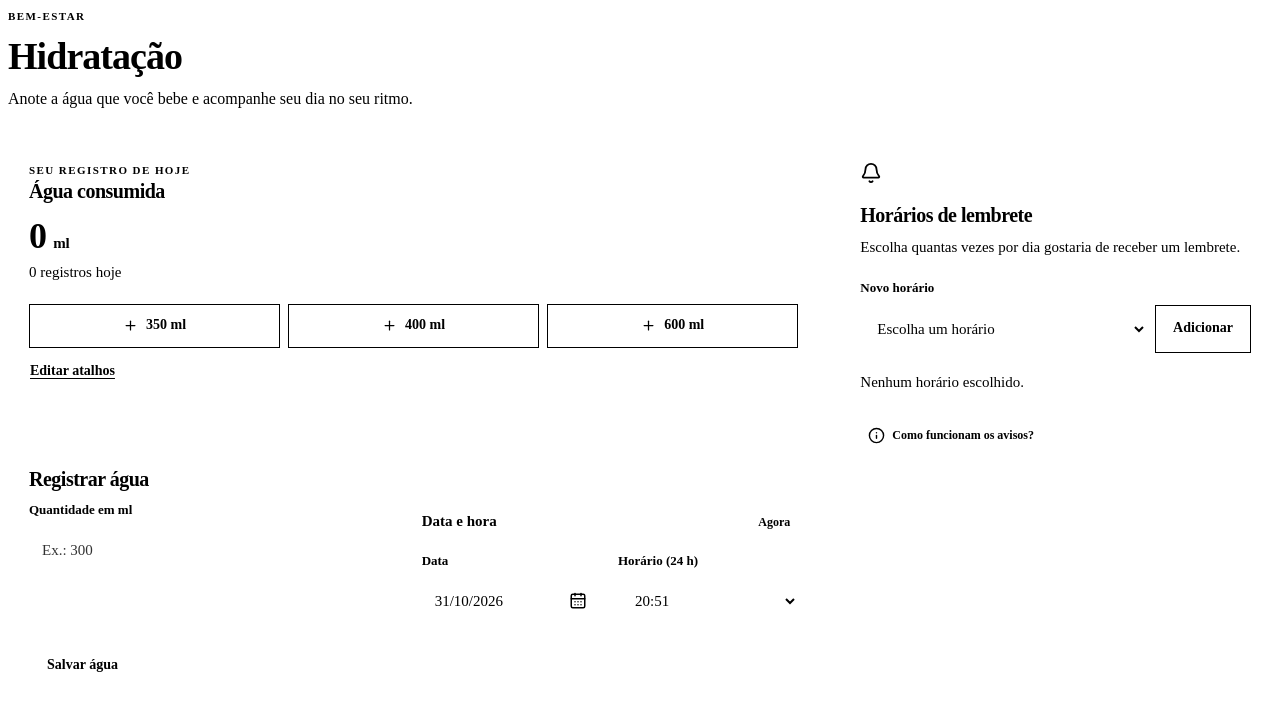
Test: cancela alterações e restaura os padrões sem alterar registros
The image size is (1280, 720).
Click the button "Editar atalhos" at {"x": 72, "y": 372}, box x1=29 y1=348 x2=116 y2=396
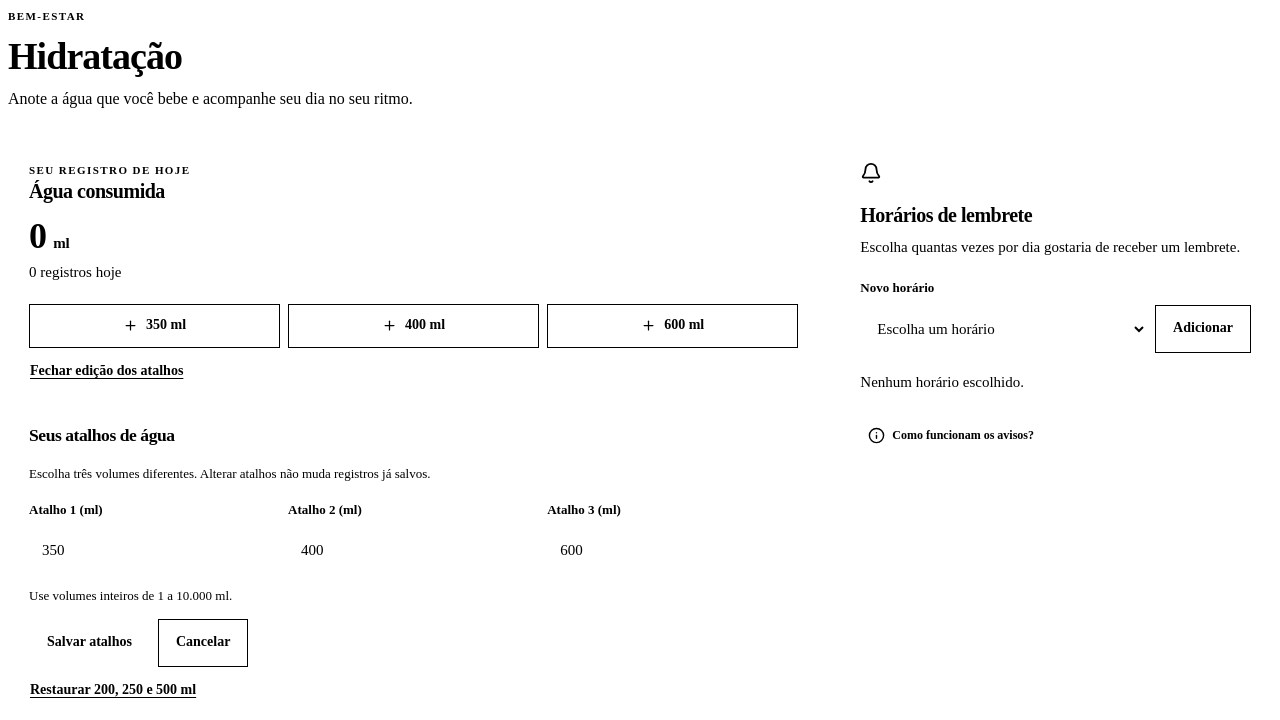
Clear the field labelled "Atalho 1 (ml)" at {"x": 168, "y": 550}, box x1=29 y1=526 x2=306 y2=574
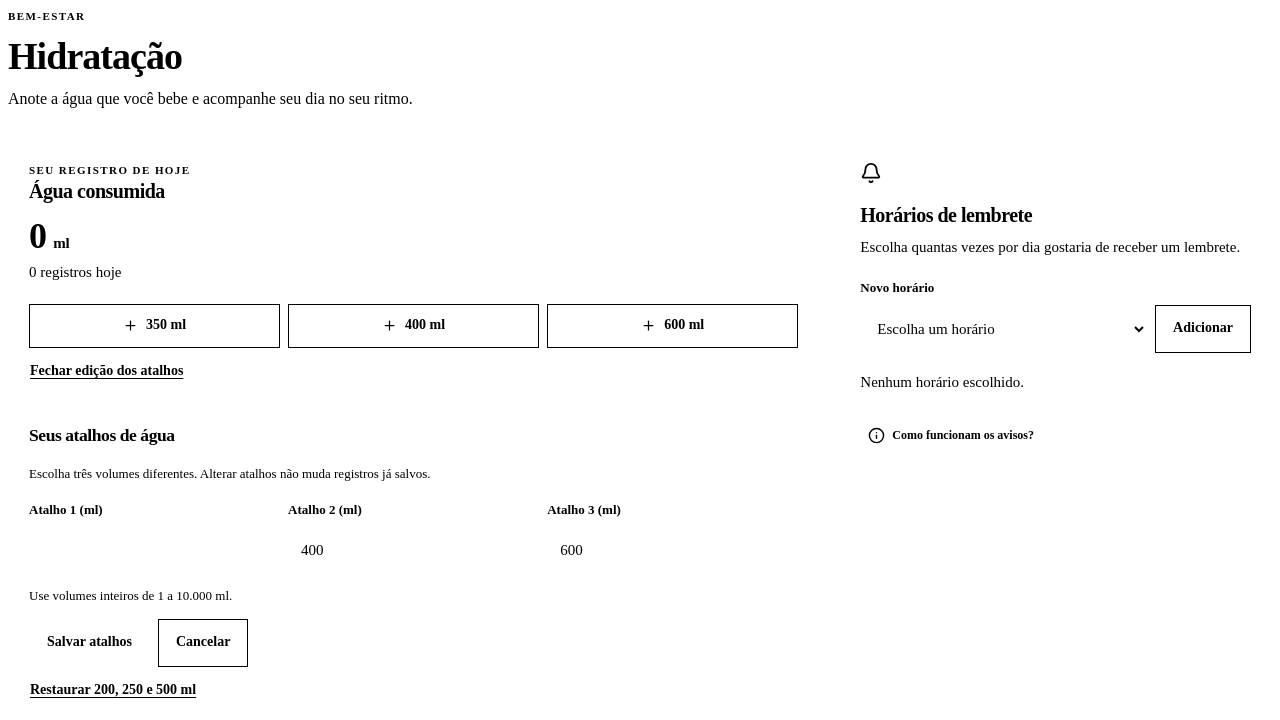
Click the button "Cancelar" at {"x": 203, "y": 643}, box x1=158 y1=619 x2=248 y2=667
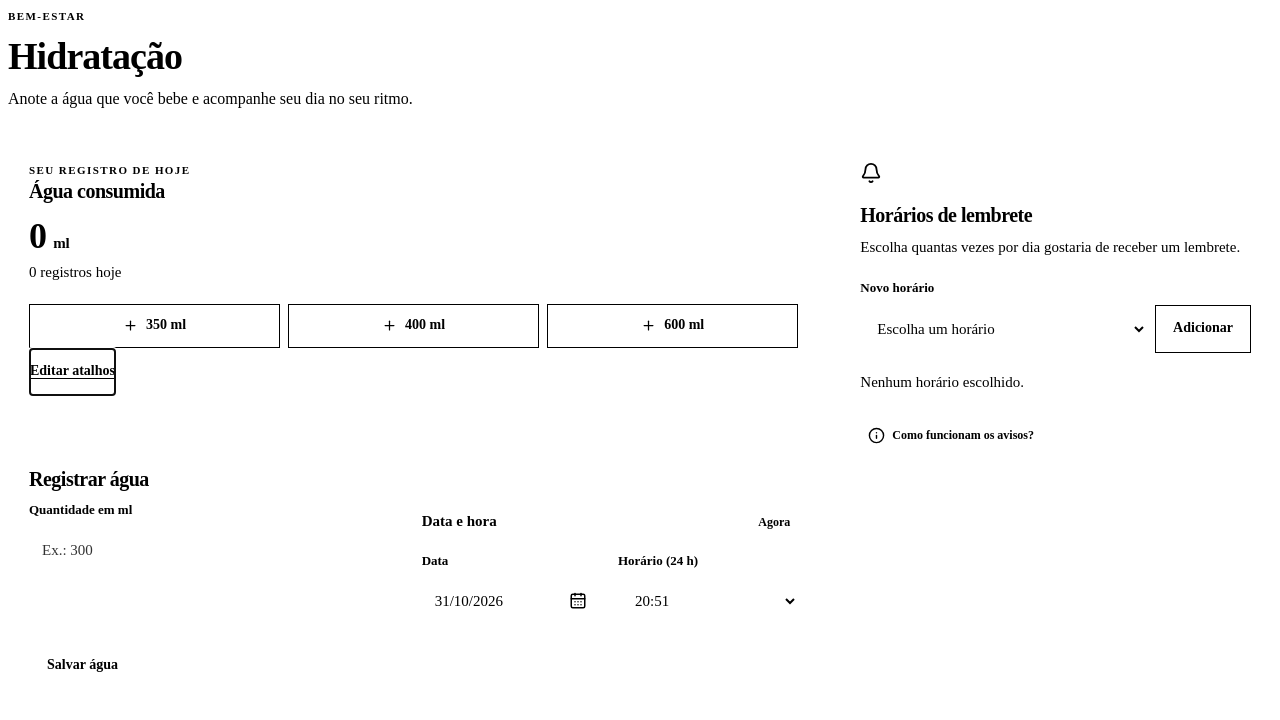
Expected: the button "350 ml" is shown, x1=29 y1=304 x2=280 y2=348
Click the button "Editar atalhos" at {"x": 72, "y": 372}, box x1=29 y1=348 x2=116 y2=396
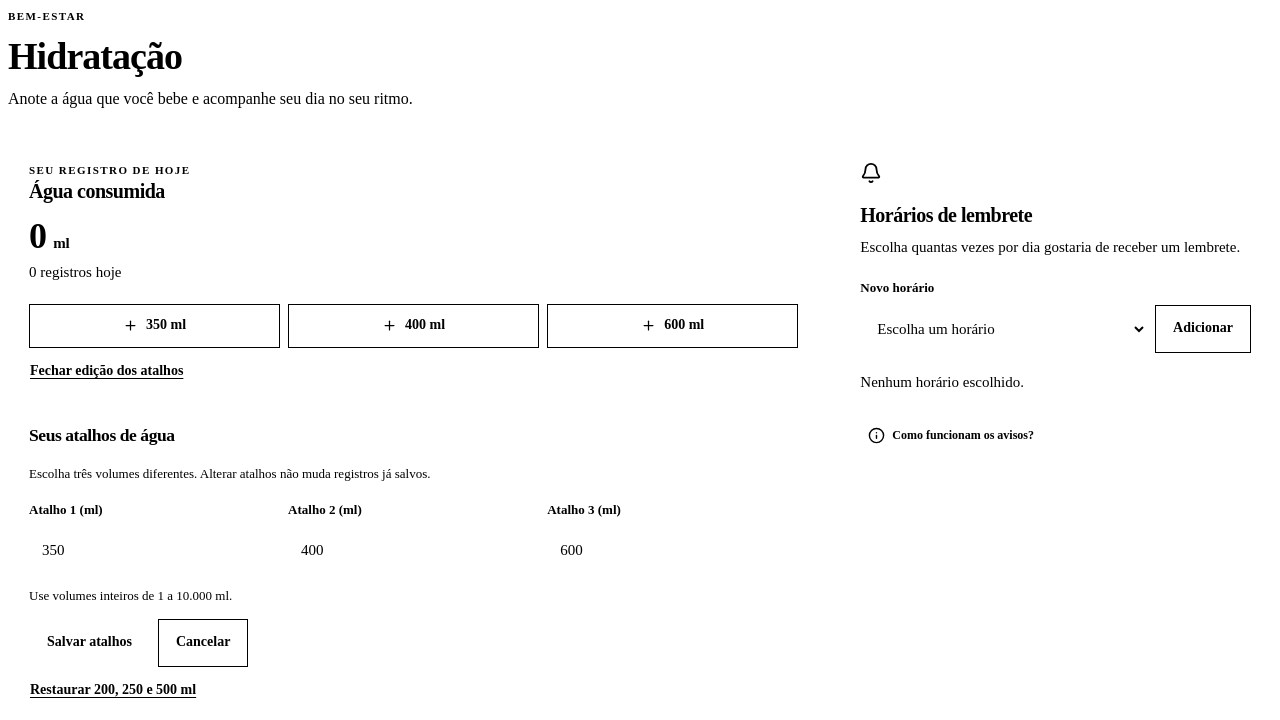
Click the button "Restaurar 200, 250 e 500 ml" at {"x": 113, "y": 691}, box x1=29 y1=667 x2=197 y2=715
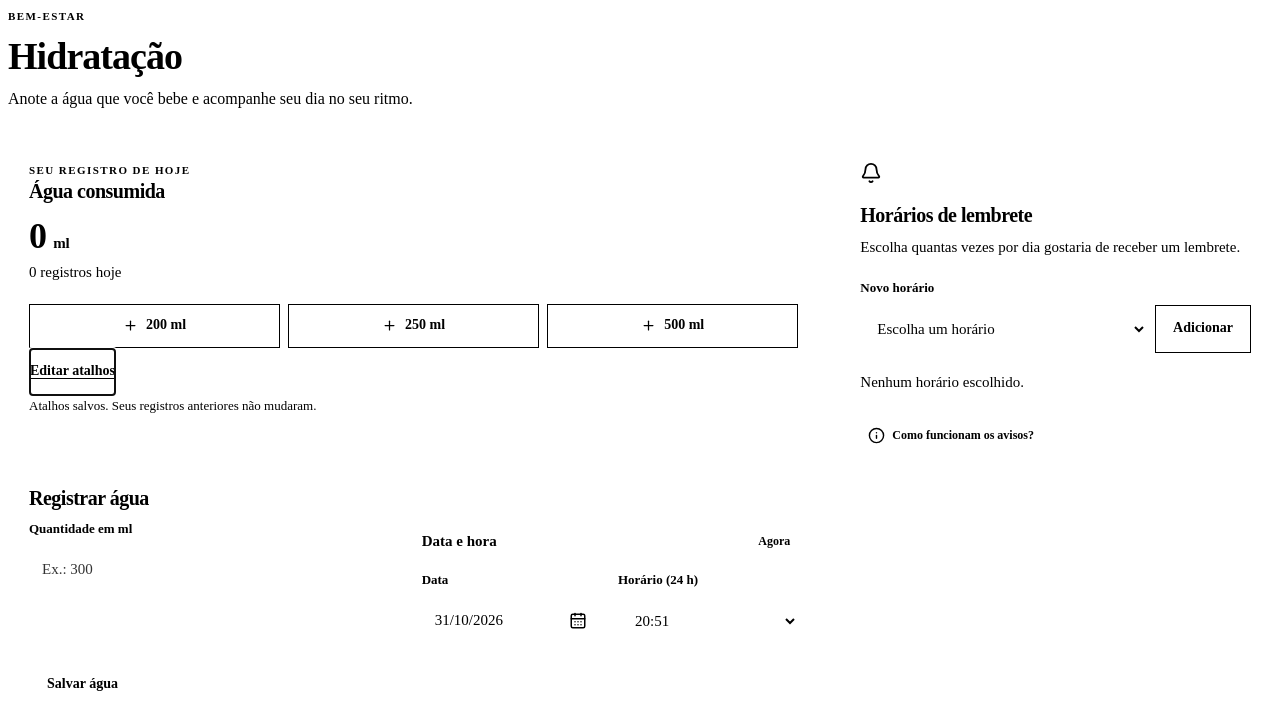
Expected: the button "200 ml" is shown, x1=29 y1=304 x2=280 y2=348
